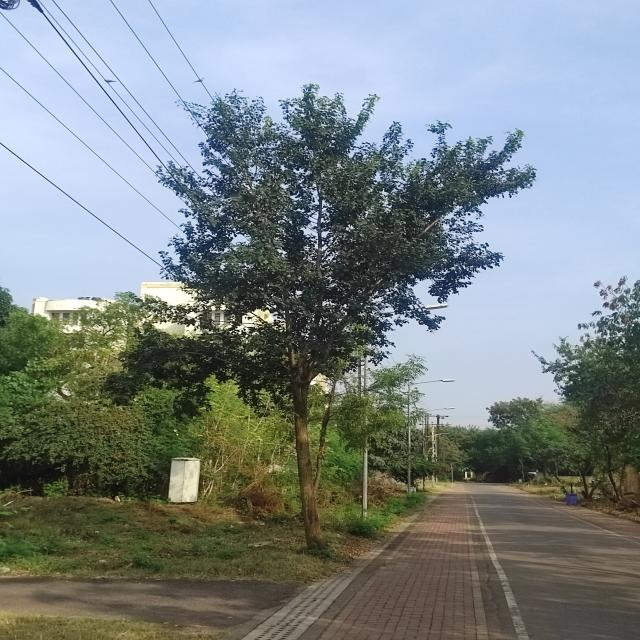Devakanchan tree: (142, 63, 480, 565)
